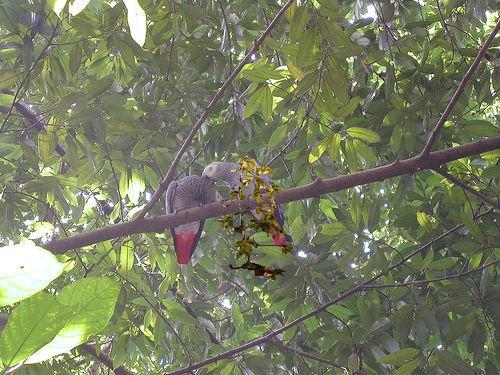tampered: (219, 154, 293, 280)
